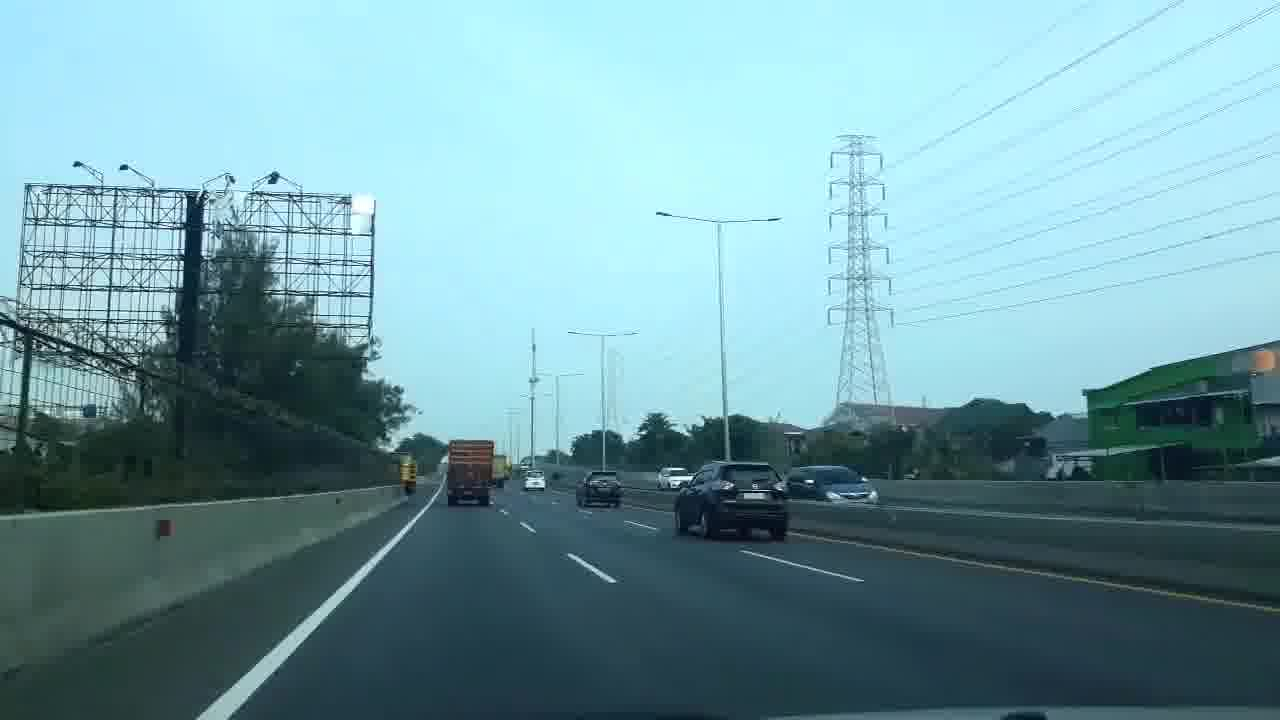plate_positive: (743, 492, 766, 500)
